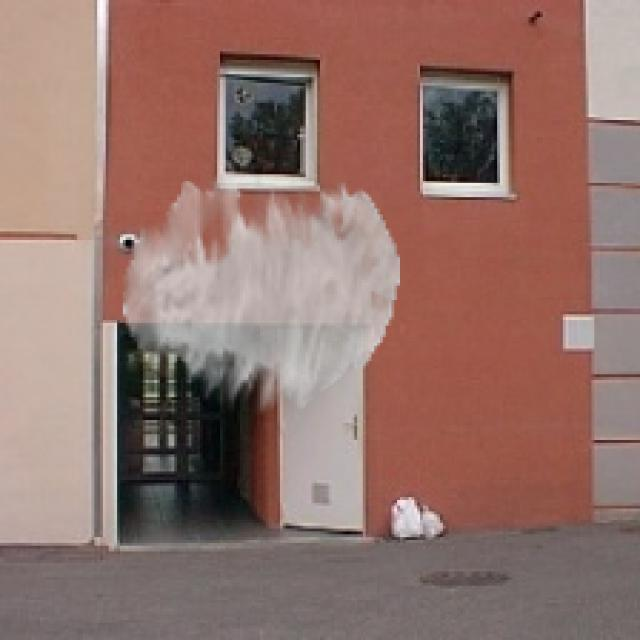Smoke: (123, 172, 400, 414)
